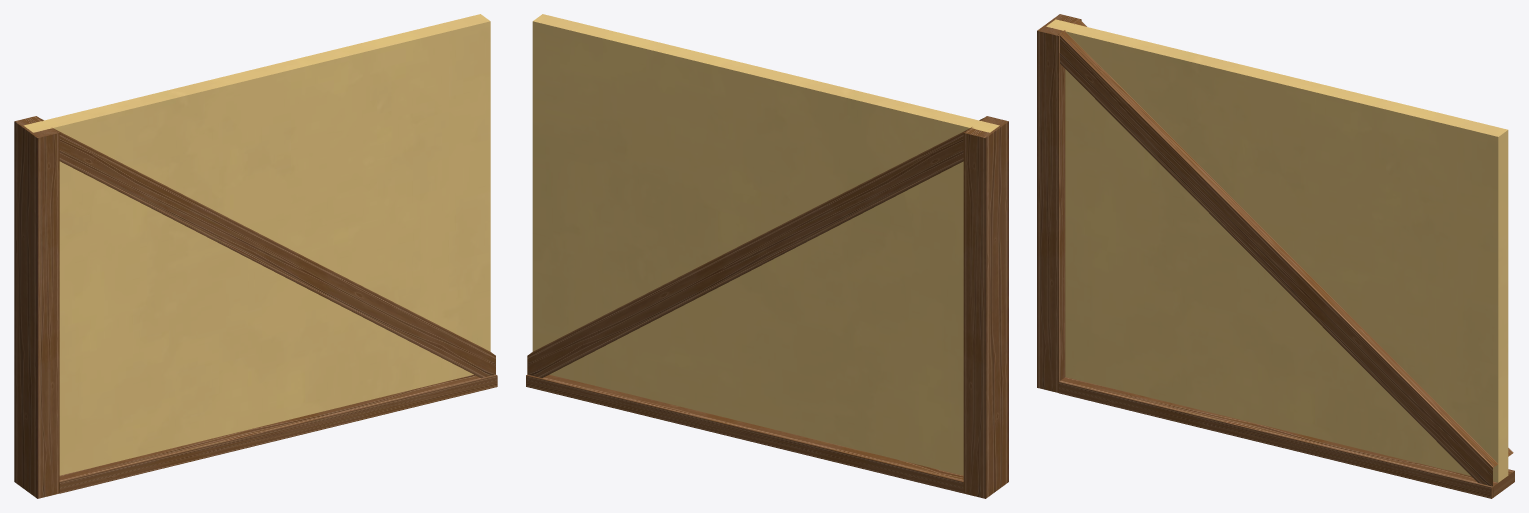
Rendered from SM_Large_Wall_02_wsand.glb.
The picture shows the model from 3 angles, left to right: view 1: azimuth 30°, elevation 25°; view 2: azimuth 150°, elevation 25°; view 3: azimuth 330°, elevation 25°; orthographic projection.
Visible parts, largest first — view 1: SM_Large_Wall_02; view 2: SM_Large_Wall_02; view 3: SM_Large_Wall_02.
Part boxes in pixels (left/top/right/bottom): SM_Large_Wall_02: left=14, top=14, right=497, bottom=498; SM_Large_Wall_02: left=526, top=14, right=1008, bottom=498; SM_Large_Wall_02: left=1037, top=14, right=1514, bottom=498.
Bounding box in the file's own units: 4 × 3.01 × 0.3524.
2 materials, 2 textured.
